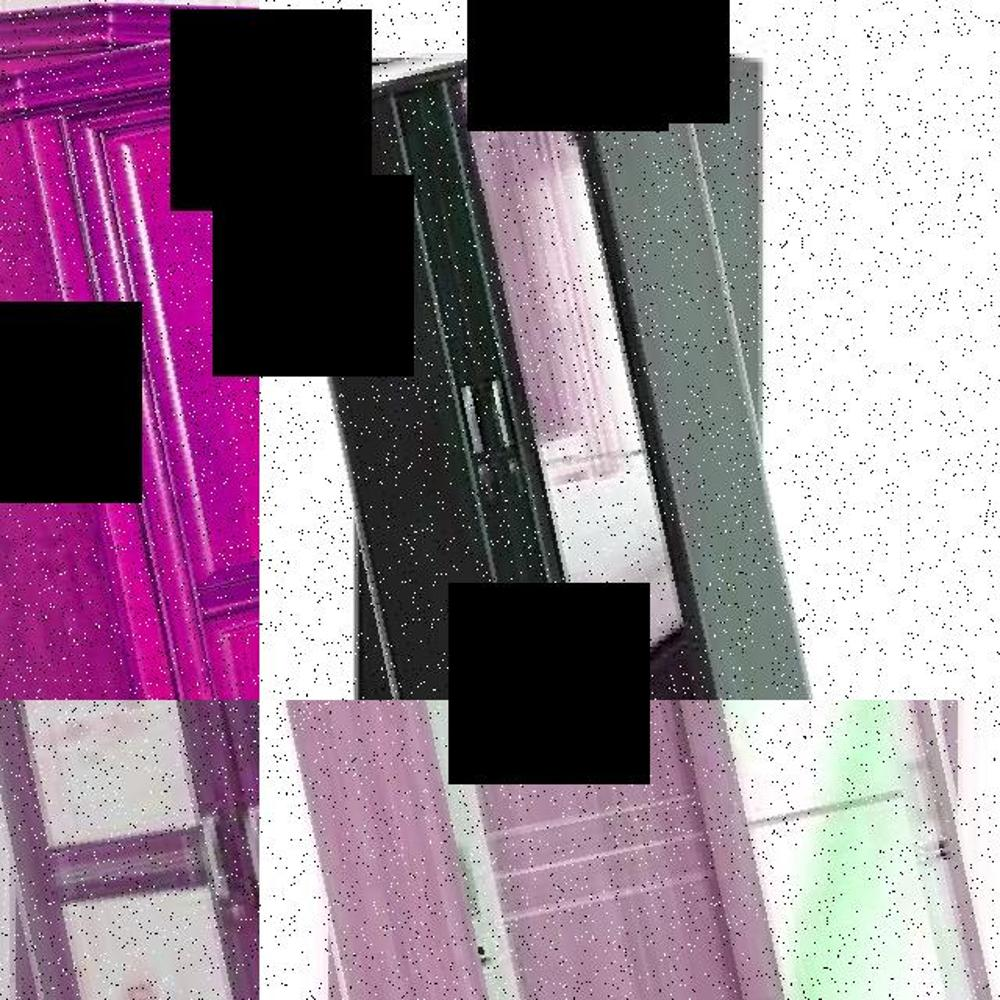cabinet: (306, 19, 809, 700), (281, 700, 1000, 1000), (0, 0, 259, 700), (0, 700, 259, 1000)
